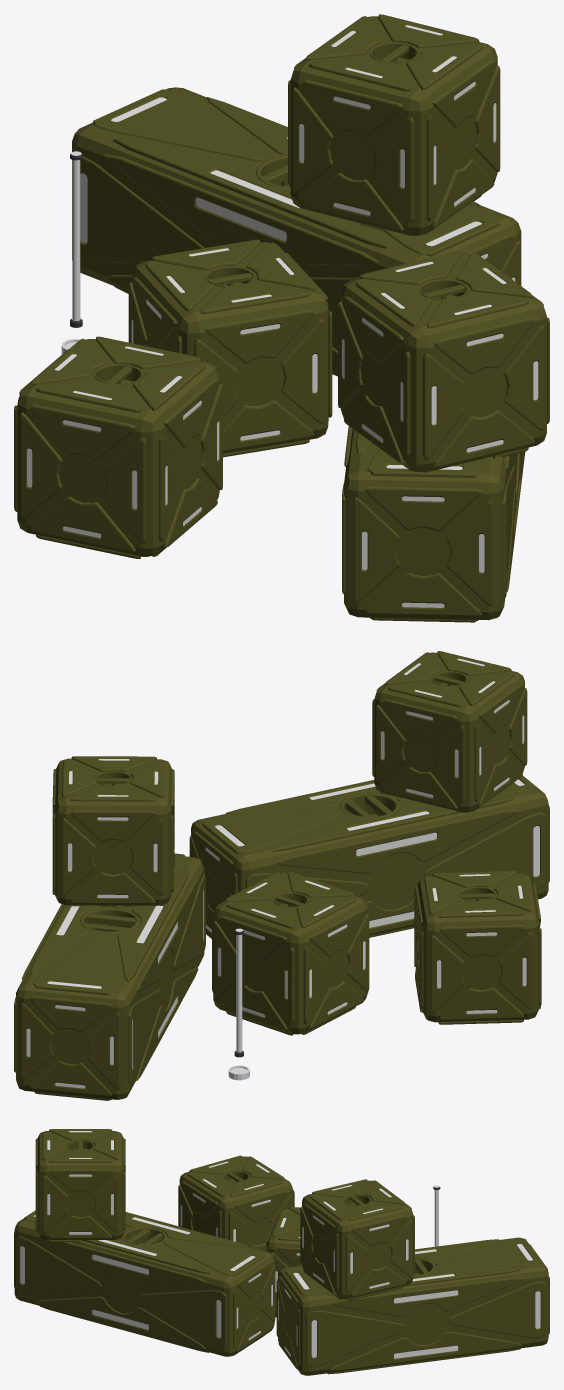
The model's file is SciFiCrate.fbx.
The picture shows the model from 3 angles, top to bottom: view 1: azimuth 30°, elevation 25°; view 2: azimuth 150°, elevation 25°; view 3: azimuth 270°, elevation 25°; orthographic projection. The views are drawn at different scales.
Visible parts, largest first — view 1: Crate Long.001, Crate Short.001, Crate Short, Crate Short.003, Crate Short.002, Crate Long, Circle.001; view 2: Crate Long, Crate Long.001, Crate Short.002, Crate Short, Crate Short.003, Crate Short.001, Circle.001; view 3: Crate Long.001, Crate Long, Crate Short.001, Crate Short, Crate Short.003, Crate Short.002, Circle.001.
Part boxes in pixels (<box>): Crate Long.001: <box>72,87,521,376</box>; Crate Short.001: <box>288,14,500,235</box>; Crate Short: <box>338,251,549,472</box>; Crate Short.003: <box>14,336,222,558</box>; Crate Short.002: <box>128,239,332,457</box>; Crate Long: <box>342,286,525,622</box>; Circle.001: <box>61,151,82,354</box>; Crate Long: <box>189,775,549,938</box>; Crate Long.001: <box>14,853,205,1100</box>; Crate Short.002: <box>212,871,369,1035</box>; Crate Short: <box>372,651,527,812</box>; Crate Short.003: <box>414,871,541,1024</box>; Crate Short.001: <box>52,756,174,906</box>; Circle.001: <box>228,928,249,1080</box>; Crate Long.001: <box>276,1237,549,1375</box>; Crate Long: <box>14,1210,275,1356</box>; Crate Short.001: <box>300,1179,414,1300</box>; Crate Short: <box>35,1129,125,1241</box>; Crate Short.003: <box>178,1155,294,1251</box>; Crate Short.002: <box>264,1207,301,1317</box>; Circle.001: <box>433,1185,440,1246</box>.
Size of the model in its own units: 823 by 407 by 1230.
